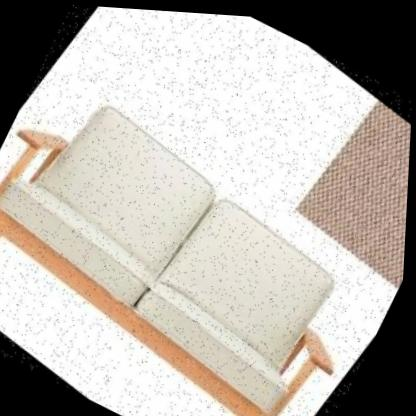Sofa: (0, 40, 414, 416)
